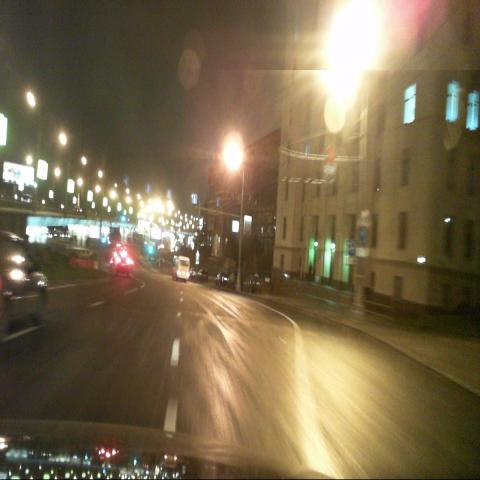3_1: (327, 145, 336, 163)
6_4: (347, 239, 355, 256)
